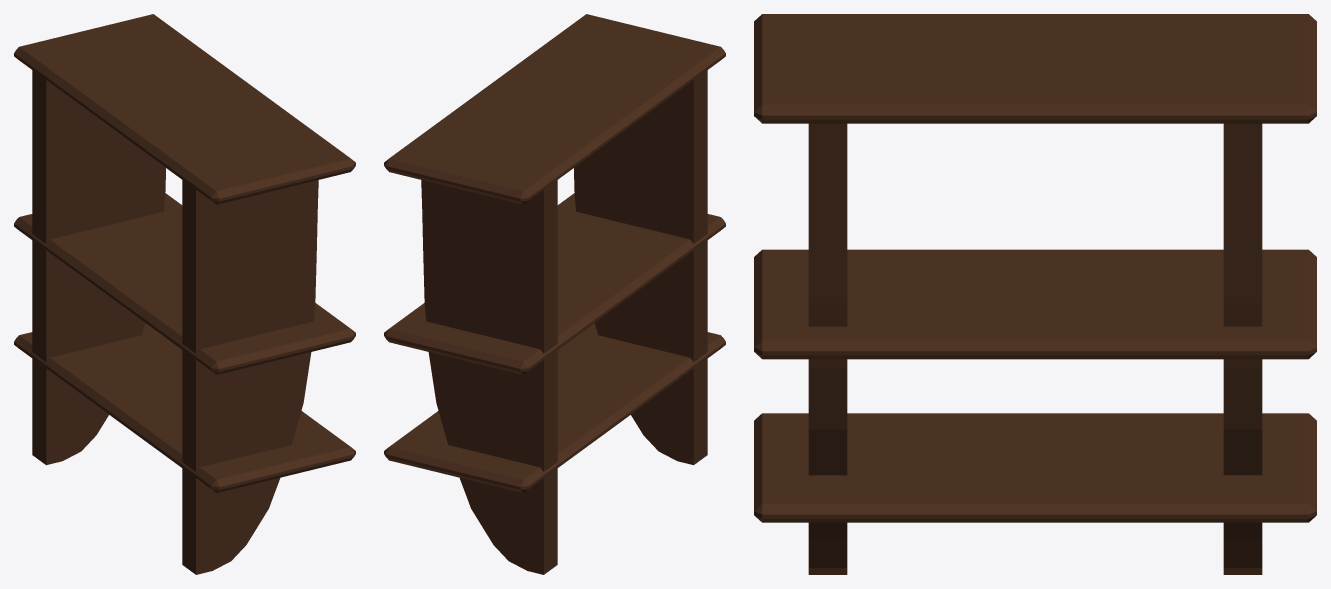
The model's file is Shelf01.fbx.
The picture shows the model from 3 angles, left to right: view 1: azimuth 30°, elevation 25°; view 2: azimuth 150°, elevation 25°; view 3: azimuth 270°, elevation 25°; orthographic projection. The views are drawn at different scales.
Parts seen in each view (by area): view 1: Cube.001; view 2: Cube.001; view 3: Cube.001.
Part boxes in pixels (x1=…): Cube.001: x1=14, y1=14, x2=355, y2=574; Cube.001: x1=384, y1=14, x2=725, y2=574; Cube.001: x1=754, y1=14, x2=1316, y2=574.
Size of the model in its own units: 77.94 by 204 by 190.
